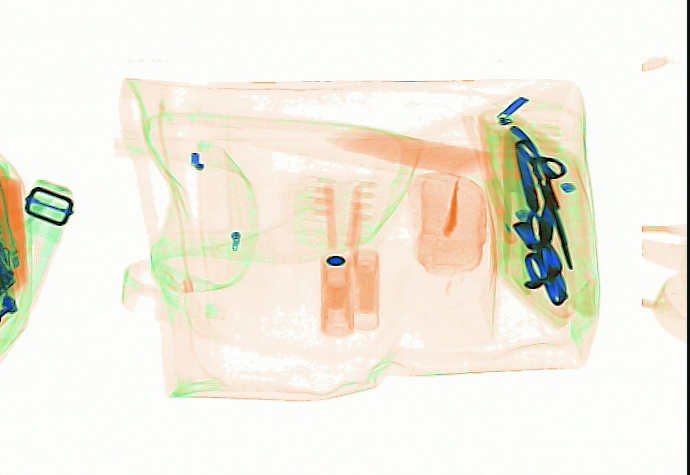scissors: (516, 140, 571, 268)
